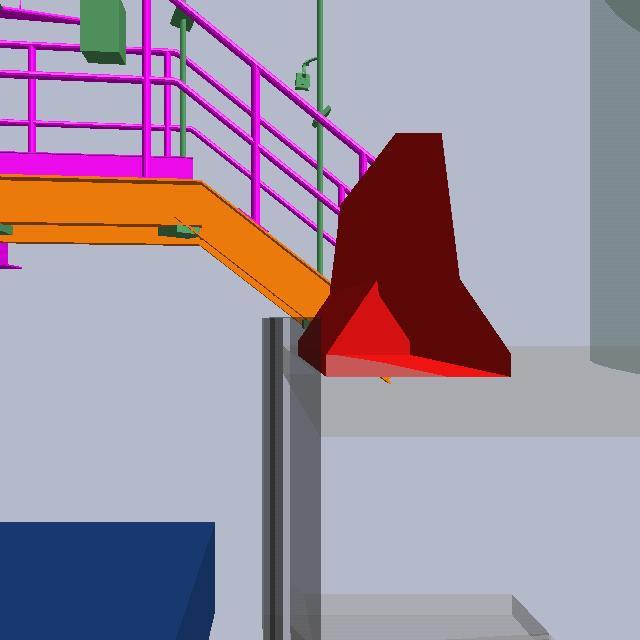Poste: (312, 1, 327, 301), (175, 12, 192, 211)
